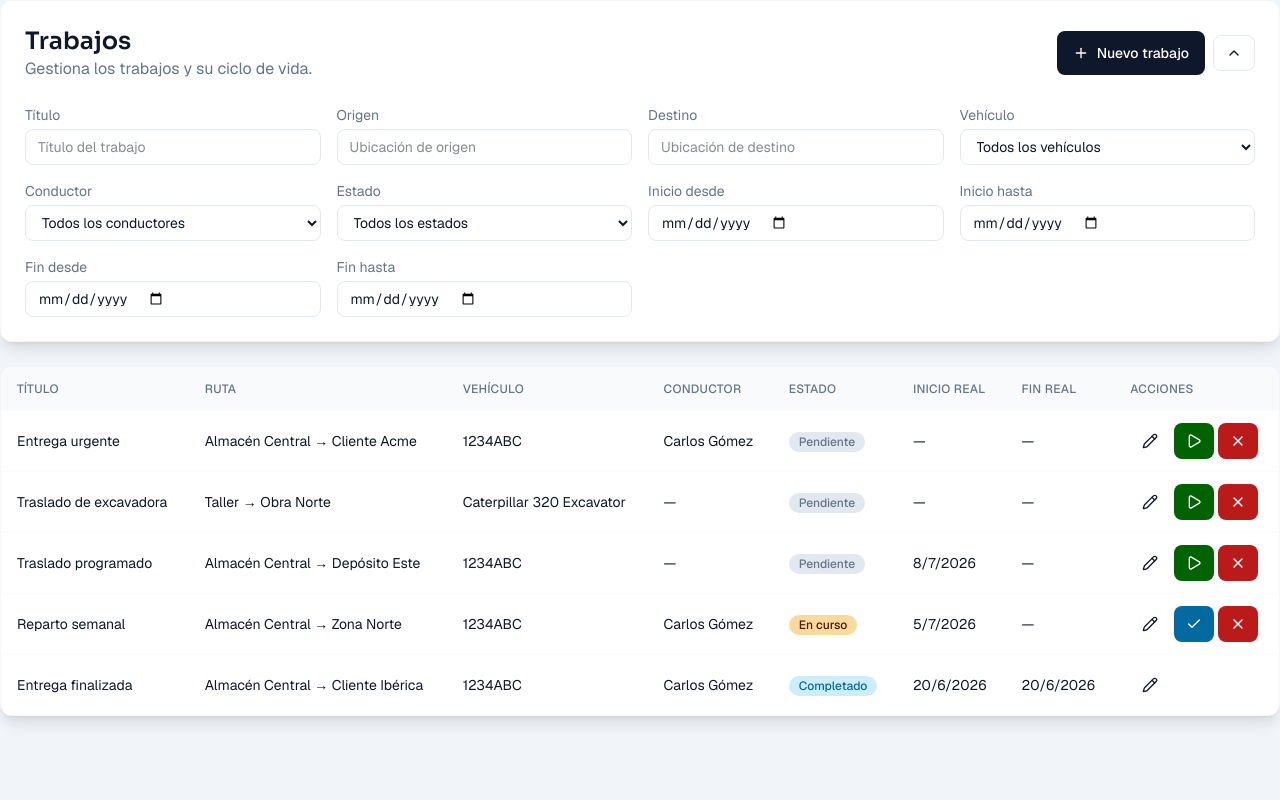
Test: Jobs › blocks completing a job with a usage value below the vehicle's current km and keeps it En curso
Expected: the text "En curso" is shown, [789,614,857,634]
Step 1. Click the button named "completar" → coordinates (1194, 624), box [1174,606,1214,642]
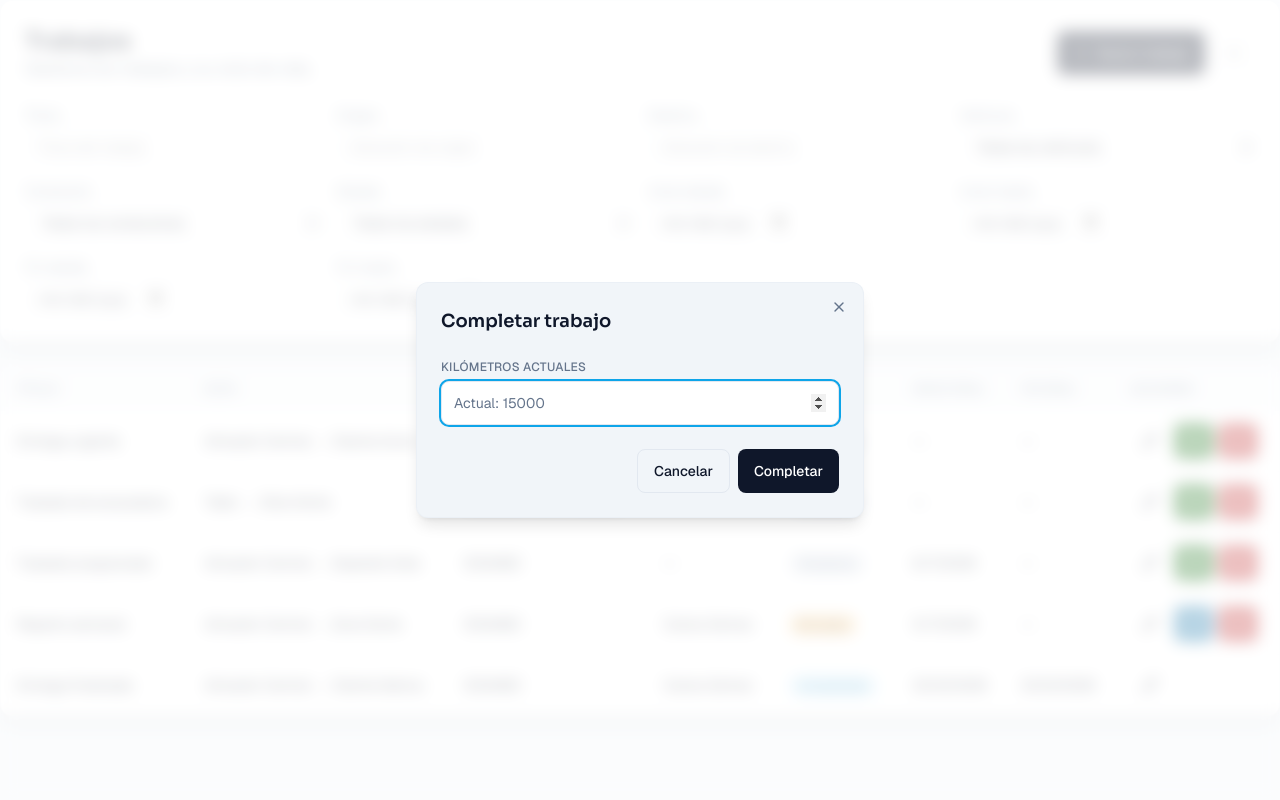
Step 2. Type "10000" into the number field labelled "Kilómetros actuales" → coordinates (640, 403), box [441,381,839,425]
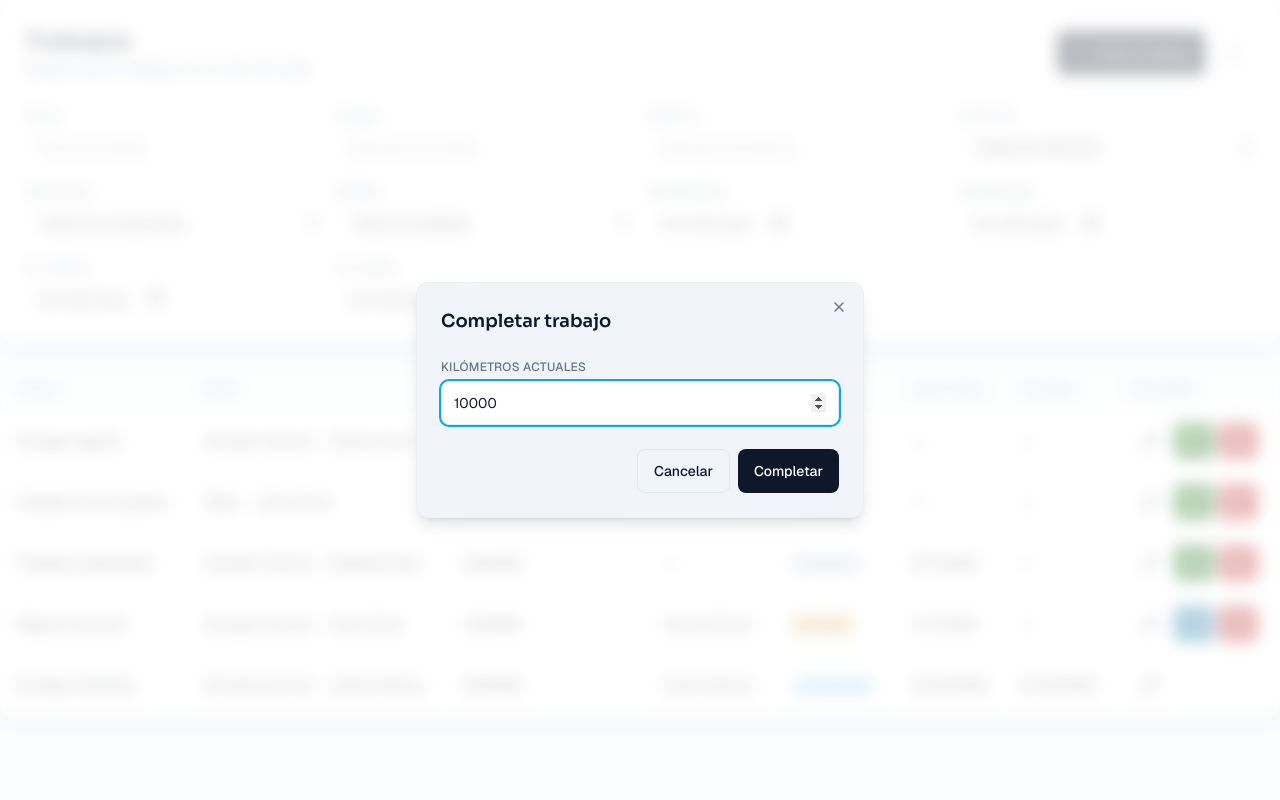
Step 3. Click the button "Completar" → coordinates (788, 471), box [738,449,839,493]
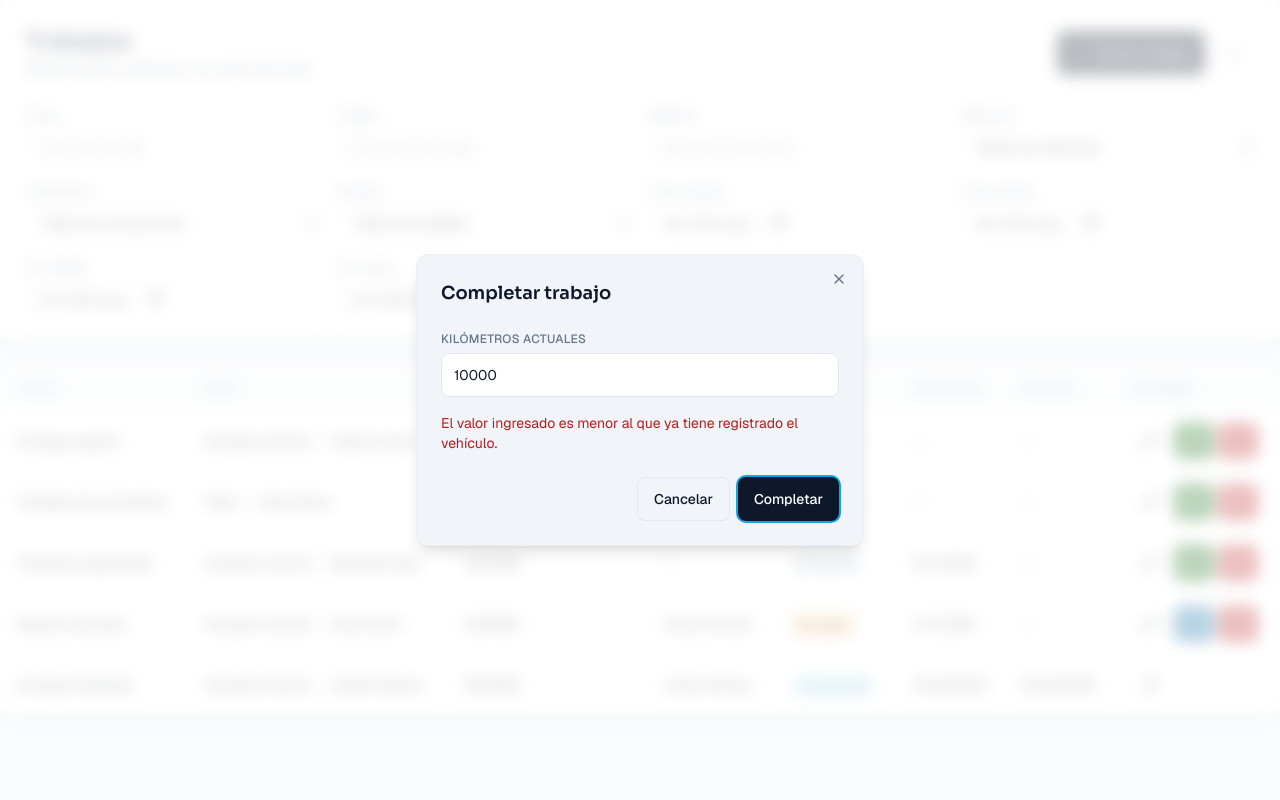
Expected: the text "En curso" is shown, [789,614,857,634]
Result: the dialog is shown at [416,254,864,546]
Result: the message shows "El valor ingresado es menor al que ya tiene registrado el vehículo" at [441,414,798,452]
